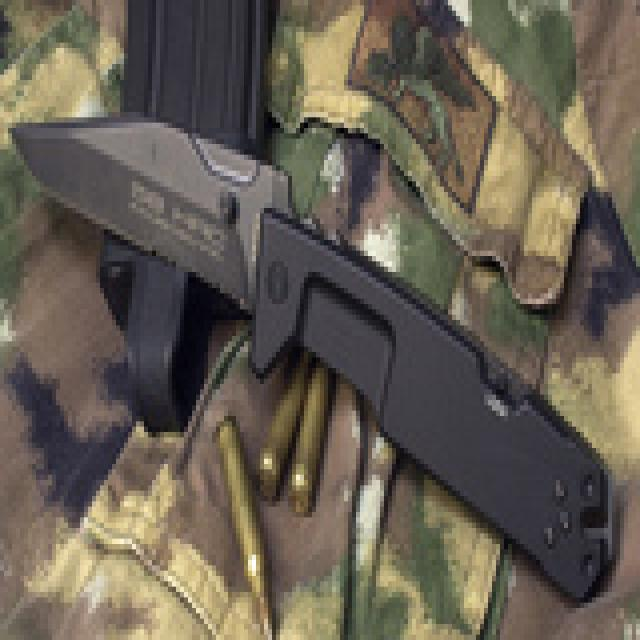Knife: (11, 90, 621, 589)
